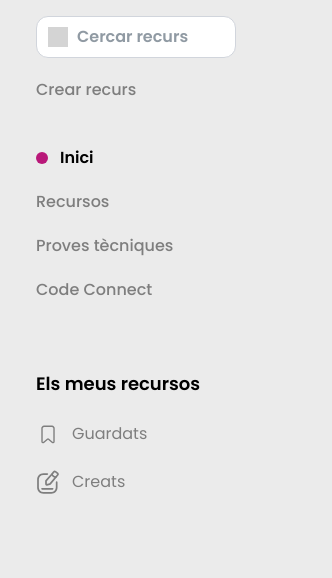
Test: AsideComponent Tests › should navigate to /codeconnect when clicked
Step 1. Click the link "Code Connect" → (94, 290), box [36,278,152,302]
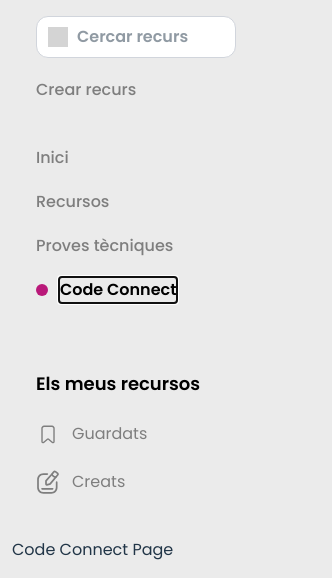
Expected: the text "Code Connect Page" is shown, [12,538,173,561]
